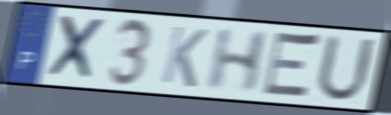3: (106, 16, 155, 90)
E: (258, 28, 325, 103)
H: (203, 27, 273, 95)
K: (158, 24, 211, 91)
U: (313, 31, 379, 105)
X: (44, 13, 108, 84)
